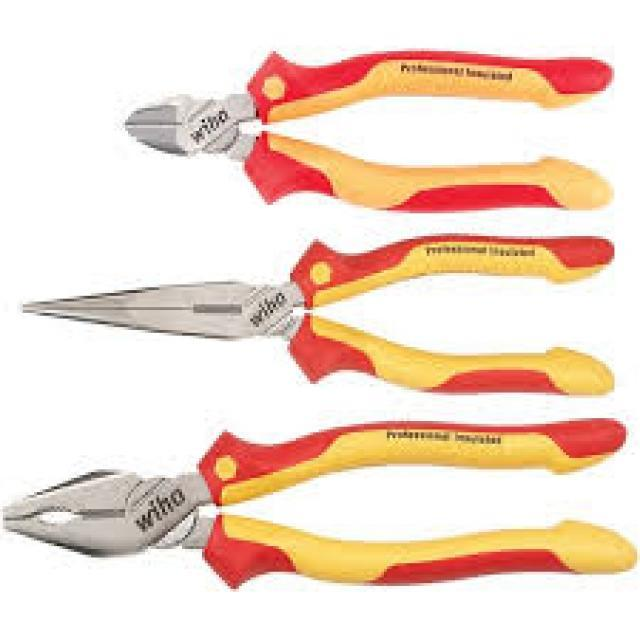pliers: (0, 414, 640, 593), (15, 224, 622, 402), (114, 33, 634, 228)
